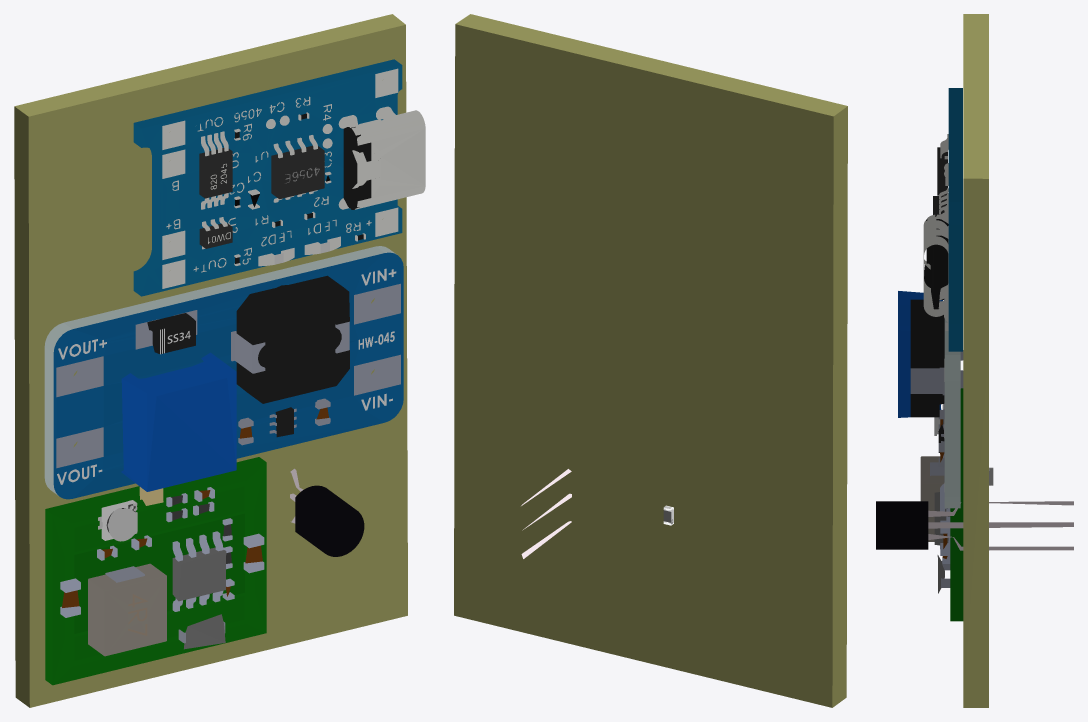
File: OBJ_PCB_TESIS_2.obj
The picture shows the model from 3 angles, left to right: view 1: azimuth 30°, elevation 25°; view 2: azimuth 150°, elevation 25°; view 3: azimuth 270°, elevation 25°; orthographic projection. The views are drawn at different scales.
Size of the model in its own units: 154 by 229 by 77.57.
